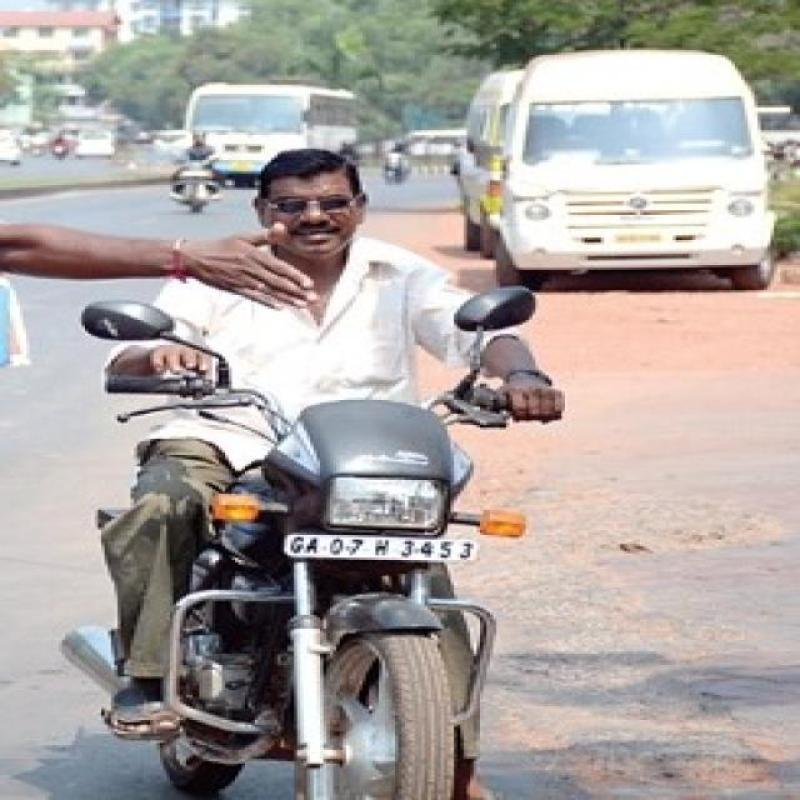nohelmet: (249, 141, 432, 281)
